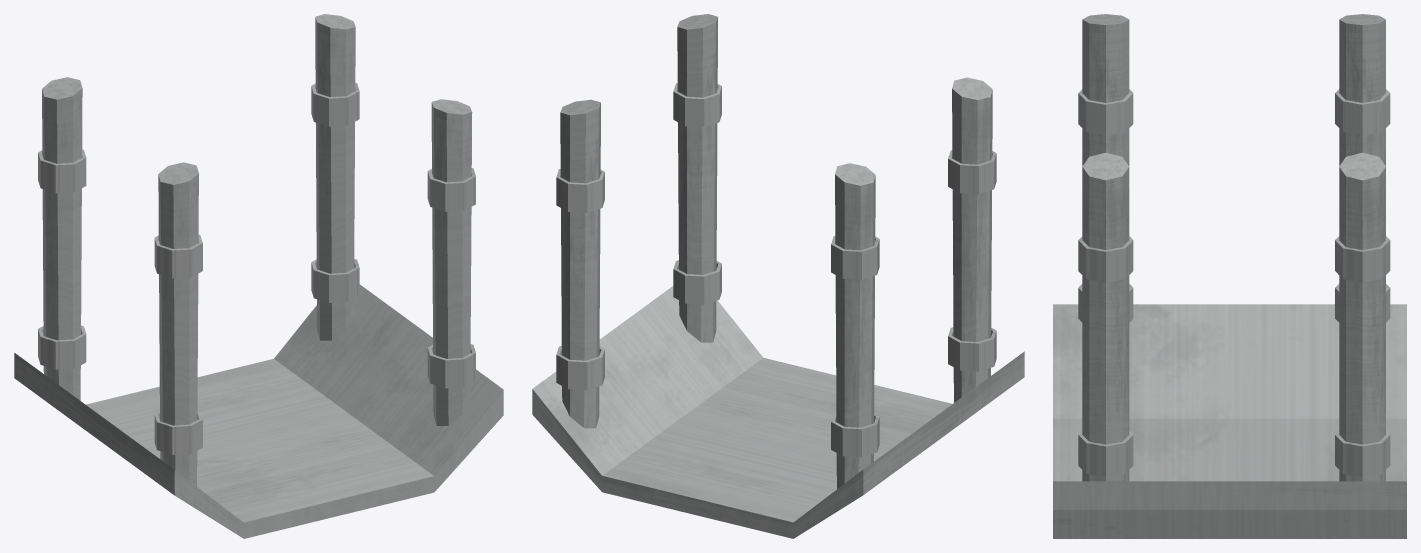
Rendered from lampa 2.fbx.
The picture shows the model from 3 angles, left to right: view 1: azimuth 30°, elevation 25°; view 2: azimuth 150°, elevation 25°; view 3: azimuth 270°, elevation 25°; orthographic projection. The views are drawn at different scales.
Visible parts, largest first — view 1: Cylinder.002; view 2: Cylinder.002; view 3: Cylinder.002.
Part boxes in pixels (x1,y1,x2,y2): Cylinder.002: (14,14,503,538); Cylinder.002: (532,14,1024,538); Cylinder.002: (1053,14,1406,538).
Bounding box in the file's own units: 4.58 × 4.81 × 3.87.
